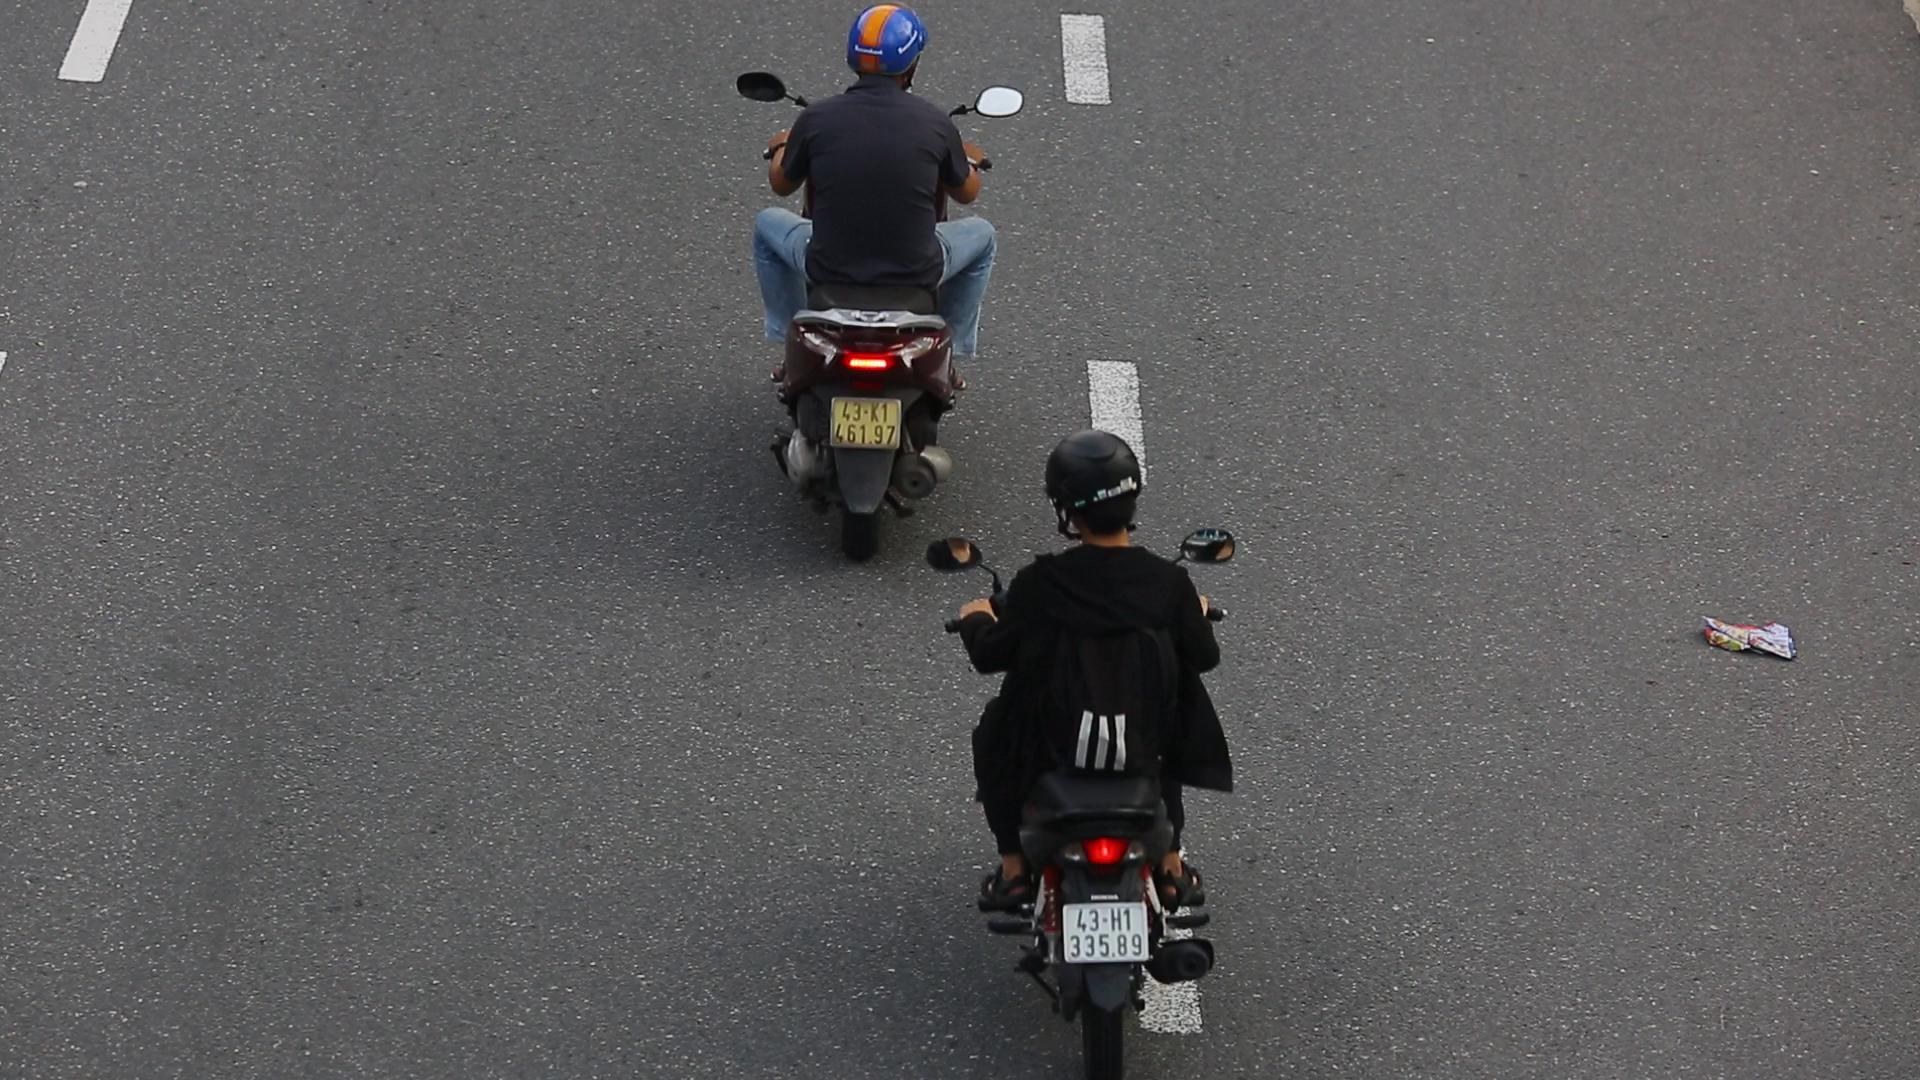motobike: (920, 421, 1247, 1080), (708, 0, 1022, 571)
